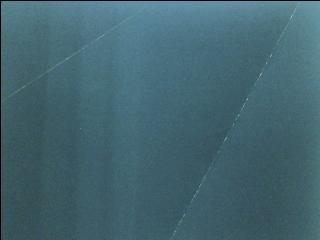crack: (168, 0, 305, 240), (0, 0, 153, 107)
